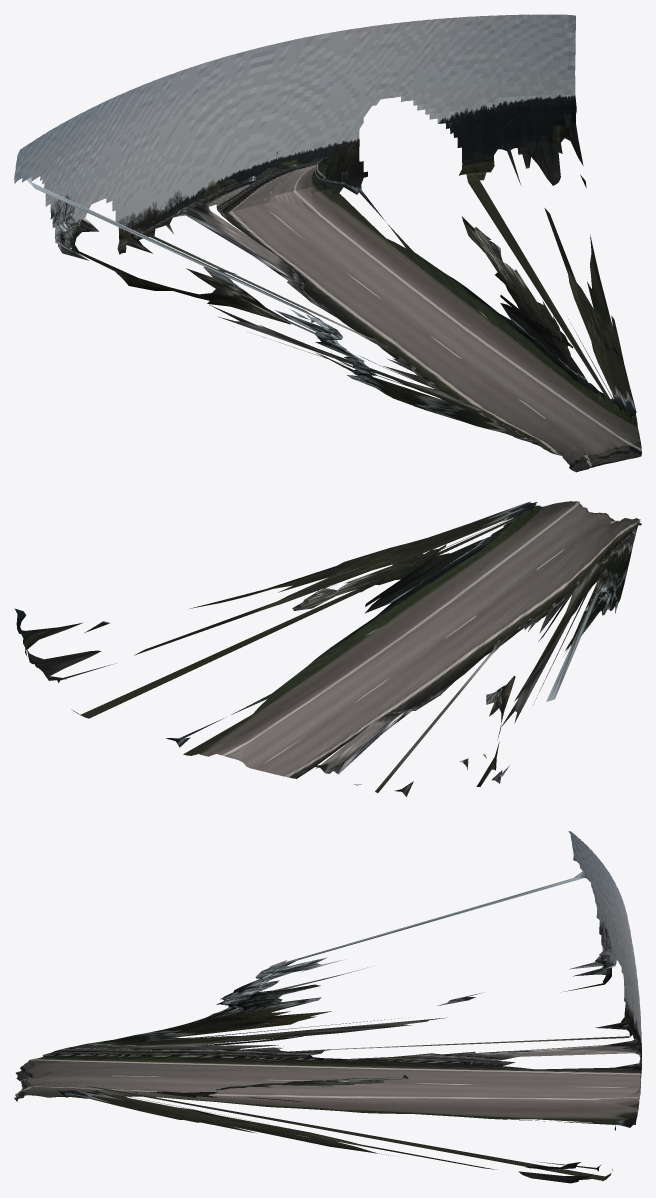
3 renders of one model, top to bottom at view 1: azimuth 30°, elevation 25°; view 2: azimuth 150°, elevation 25°; view 3: azimuth 270°, elevation 25°, orthographic. The views are drawn at different scales.
Visible parts, largest first — view 1: defaultobject; view 2: defaultobject; view 3: defaultobject.
Part boxes in pixels (x1=…): defaultobject: x1=14, y1=14, x2=641, y2=472; defaultobject: x1=14, y1=501, x2=641, y2=796; defaultobject: x1=14, y1=831, x2=641, y2=1183.
Size of the model in its own units: 40.95 by 11.95 by 44.53.
1 material, 1 textured.
